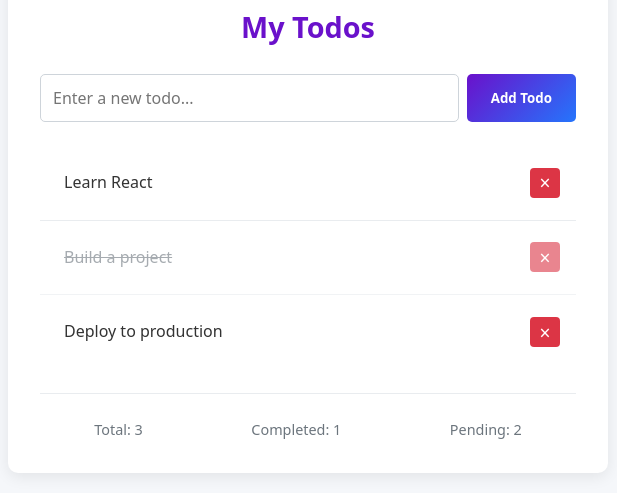
Test: TodoList Component › deletes a todo
The width and height of the screenshot is (617, 493).
Click the button named "Delete".
click(545, 183)  # box [530,168,560,198]
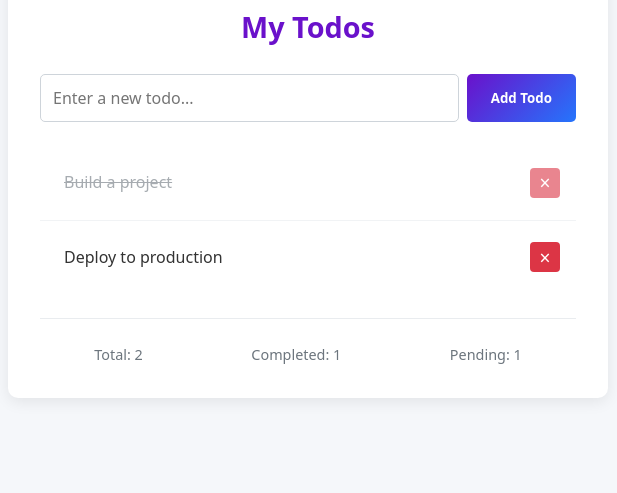
Result: the number of list items is 2 at [40,146,576,221]; [64,242,560,272]
Result: the text "Learn React" is gone
